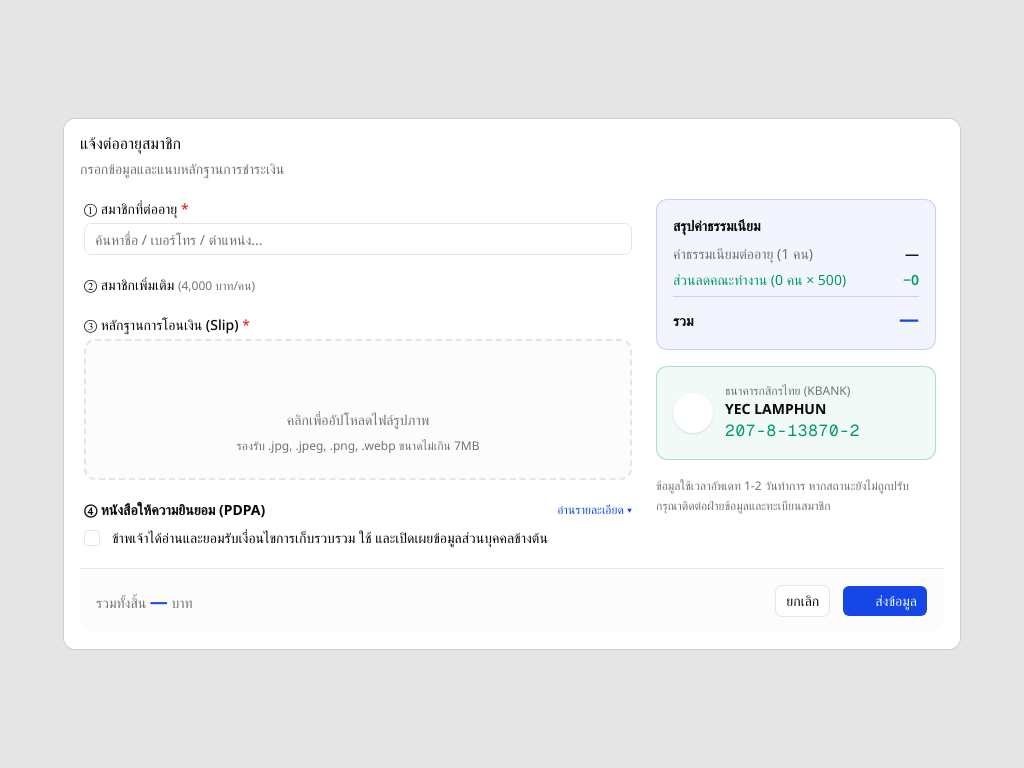
Test: RenewalFormDialog › Unhappy cases › empty submit shows the three-item missing-field summary without any fetch
Click the button "ส่งข้อมูล": (885, 601) [842, 585, 928, 617]
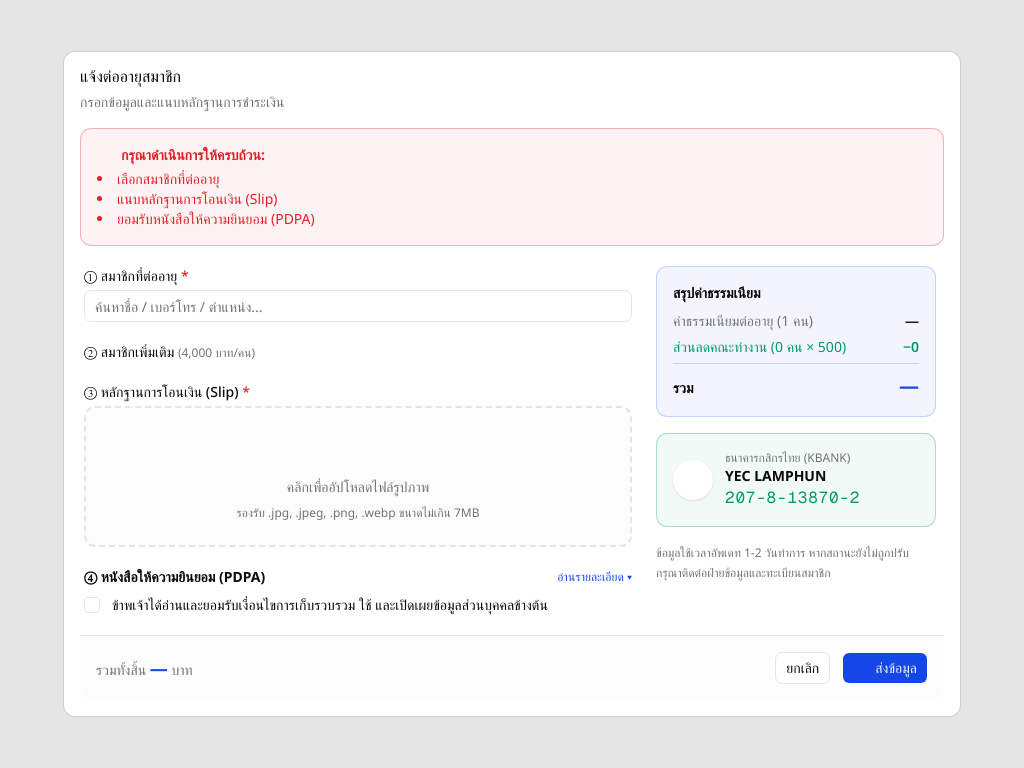
Now the text "กรุณาดำเนินการให้ครบถ้วน:" is shown, box [121, 145, 265, 164]
Now the list item "เลือกสมาชิกที่ต่ออายุ" is shown, box [117, 169, 219, 188]
Now the list item "แนบหลักฐานการโอนเงิน (Slip)" is shown, box [117, 189, 278, 208]
